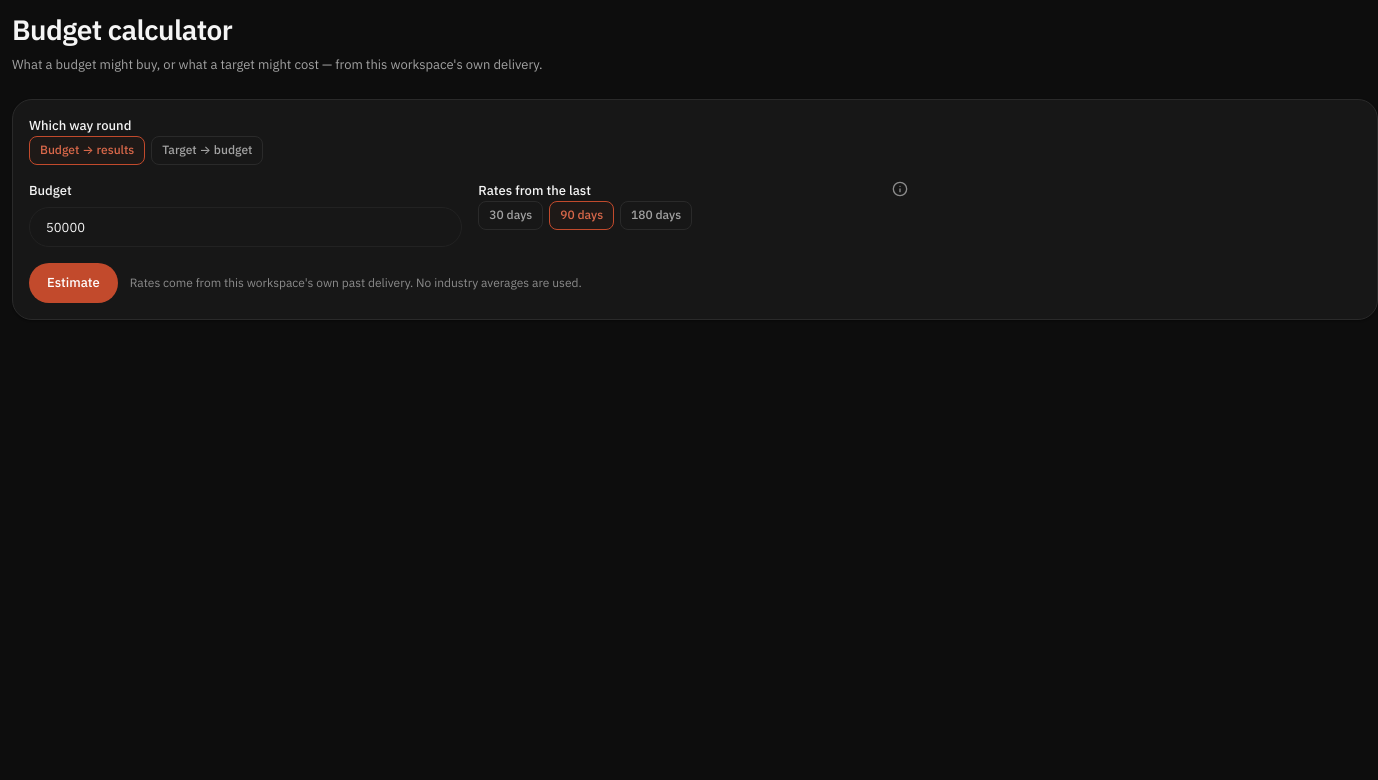
it: BudgetCalculatorPage › shows a reason rather than a figure when a platform has too little data
Click the button "Estimate": (73, 283) [29,263,118,303]
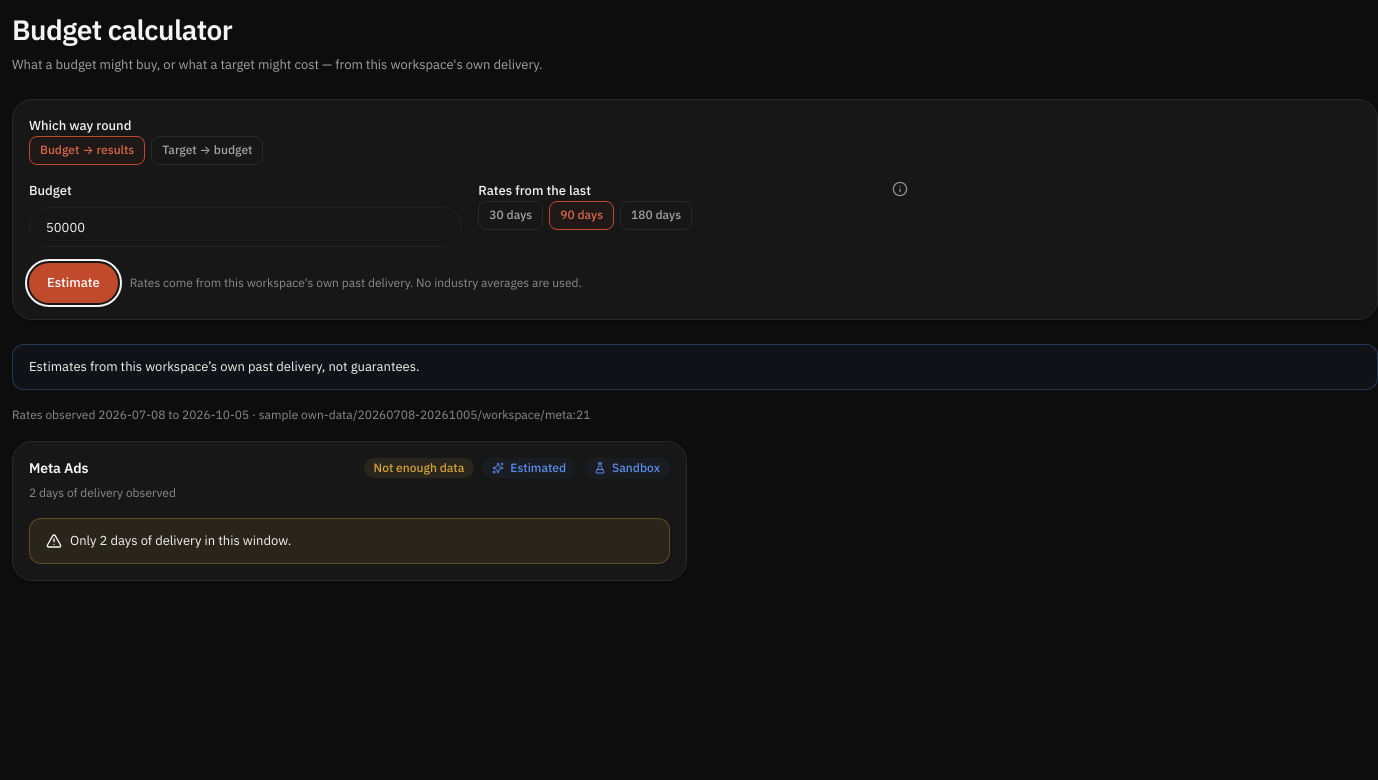
Expected: the text "Only 2 days of delivery in this window." is shown, [70,531,291,551]
